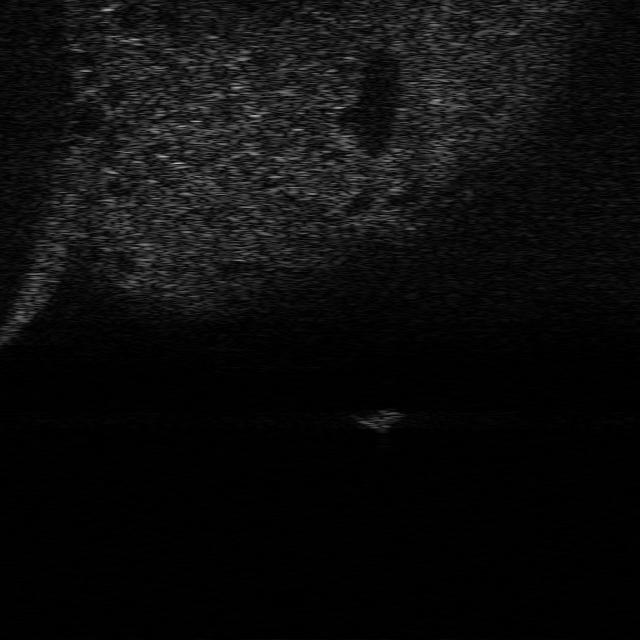cube: (351, 406, 405, 432)
